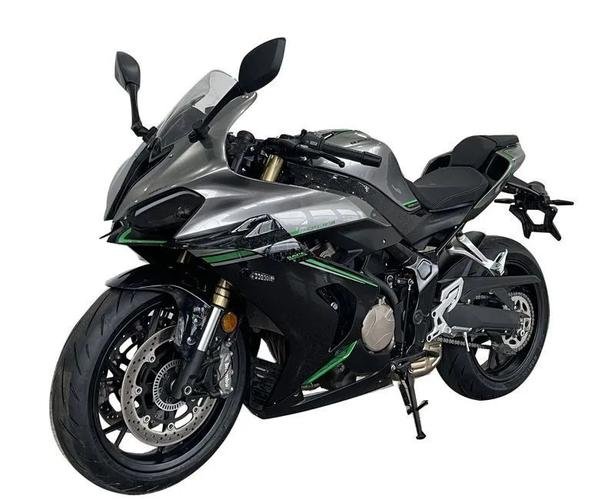摩托车: (37, 27, 591, 499)
